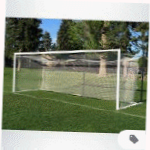goals: (10, 47, 140, 113)
